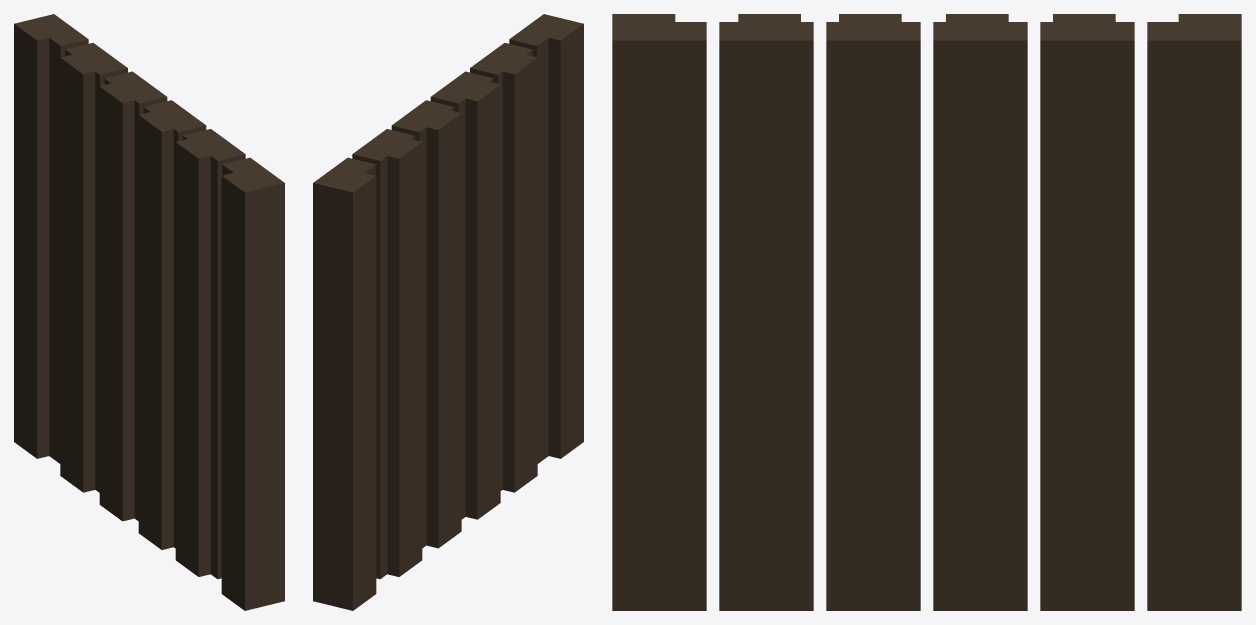
File: A_WoodFrame10.fbx
3 renders of one model, left to right at view 1: azimuth 30°, elevation 25°; view 2: azimuth 150°, elevation 25°; view 3: azimuth 270°, elevation 25°, orthographic. The views are drawn at different scales.
Parts seen in each view (by area): view 1: A_WoodFrame10; view 2: A_WoodFrame10; view 3: A_WoodFrame10.
Boxes of the visible parts, box(x1,y1,x2,y2) form: A_WoodFrame10: box(14, 14, 284, 610); A_WoodFrame10: box(313, 14, 583, 610); A_WoodFrame10: box(612, 14, 1241, 610).
Size of the model in its own units: 10 by 100 by 100.
